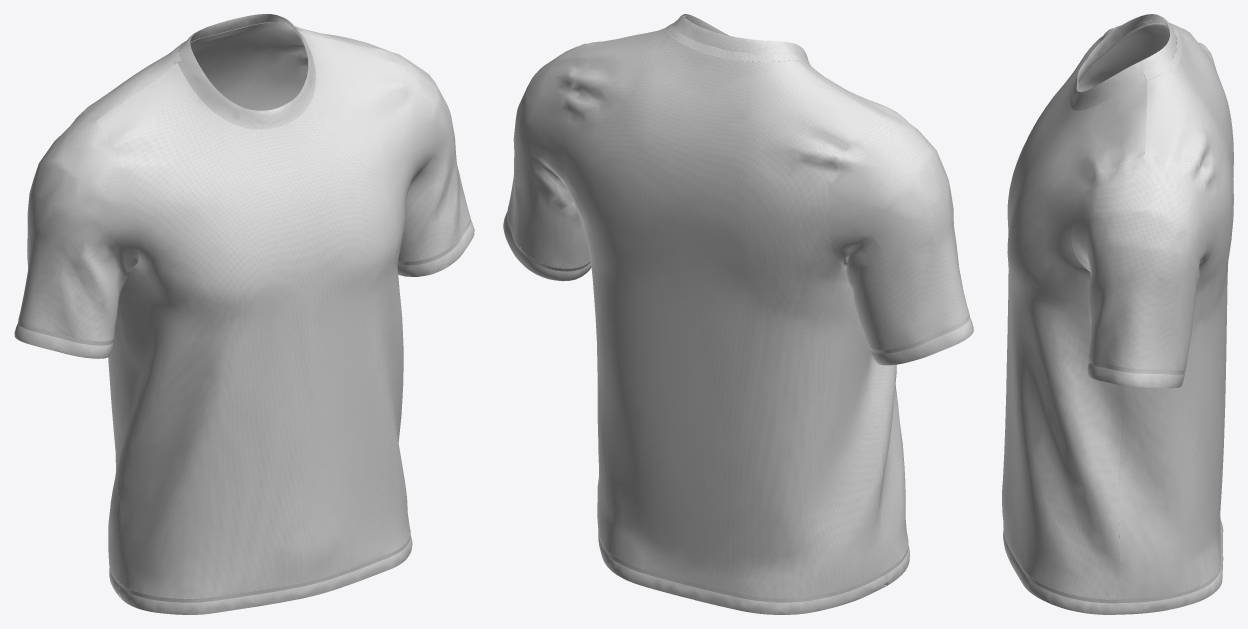
File: cloth.glb
3 views of the same model, side by side, from view 1: azimuth 30°, elevation 25°; view 2: azimuth 150°, elevation 25°; view 3: azimuth 270°, elevation 25° (orthographic). The views are drawn at different scales.
Visible parts, largest first — view 1: Pattern2D_486144, Pattern2D_484674, Pattern2D_485220, Pattern2D_483306_1, Pattern2D_483306, Pattern2D_486129, Pattern2D_70819, Pattern2D_484659, Pattern2D_485516; view 2: Pattern2D_483306, Pattern2D_484674, Pattern2D_485220, Pattern2D_486144, Pattern2D_483920, Pattern2D_70819, Pattern2D_484659, Pattern2D_485516, Pattern2D_2361709; view 3: Pattern2D_486144, Pattern2D_483306, Pattern2D_485220, Pattern2D_70819, Pattern2D_484674_1, Pattern2D_486129, Pattern2D_483920, Pattern2D_485516, Pattern2D_2361709.
Part boxes in pixels (bbox=[...]): Pattern2D_486144: bbox=[96, 31, 417, 598]; Pattern2D_484674: bbox=[18, 112, 138, 341]; Pattern2D_485220: bbox=[368, 43, 470, 261]; Pattern2D_483306_1: bbox=[190, 24, 308, 110]; Pattern2D_483306: bbox=[77, 26, 380, 580]; Pattern2D_486129: bbox=[118, 535, 412, 614]; Pattern2D_70819: bbox=[177, 14, 315, 129]; Pattern2D_484659: bbox=[14, 319, 113, 358]; Pattern2D_485516: bbox=[397, 217, 474, 276]; Pattern2D_483306: bbox=[564, 28, 885, 598]; Pattern2D_484674: bbox=[828, 115, 969, 349]; Pattern2D_485220: bbox=[507, 42, 594, 268]; Pattern2D_486144: bbox=[589, 39, 908, 570]; Pattern2D_483920: bbox=[598, 532, 886, 614]; Pattern2D_70819: bbox=[672, 14, 810, 65]; Pattern2D_484659: bbox=[868, 313, 973, 365]; Pattern2D_485516: bbox=[503, 211, 591, 281]; Pattern2D_2361709: bbox=[665, 23, 798, 61]; Pattern2D_486144: bbox=[1002, 27, 1146, 599]; Pattern2D_483306: bbox=[1117, 23, 1233, 599]; Pattern2D_485220: bbox=[1071, 155, 1216, 370]; Pattern2D_70819: bbox=[1070, 14, 1176, 110]; Pattern2D_484674_1: bbox=[1078, 24, 1169, 91]; Pattern2D_486129: bbox=[1003, 530, 1116, 614]; Pattern2D_483920: bbox=[1115, 520, 1223, 614]; Pattern2D_485516: bbox=[1087, 359, 1185, 388]; Pattern2D_2361709: bbox=[1144, 22, 1181, 80].
Size of the model in its own units: 0.5428 by 0.6113 by 0.2448.
Materials: 1 (1 with a texture image).
